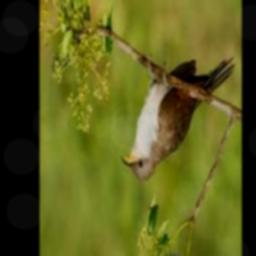Cuckoo: (121, 60, 235, 182)
